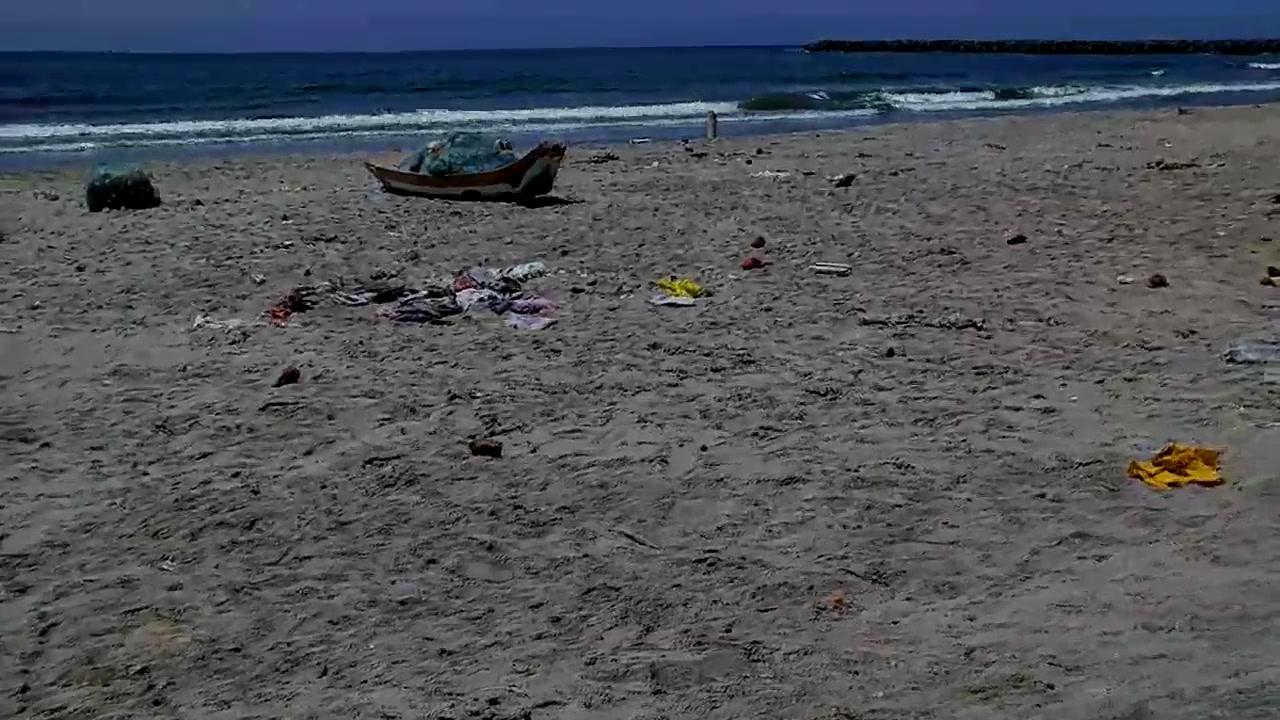large collection of objects: (366, 130, 564, 200)
obj: (260, 259, 560, 330), (850, 306, 989, 360), (1124, 436, 1226, 492), (81, 168, 161, 216), (188, 310, 264, 358), (643, 270, 715, 308), (1134, 152, 1235, 178), (569, 146, 621, 166), (812, 260, 854, 281), (470, 436, 505, 460), (738, 168, 798, 182), (271, 365, 299, 389), (1257, 261, 1279, 290), (1144, 270, 1170, 294), (1003, 225, 1029, 246), (742, 257, 772, 273)
sand/background: (1, 0, 1279, 170)
